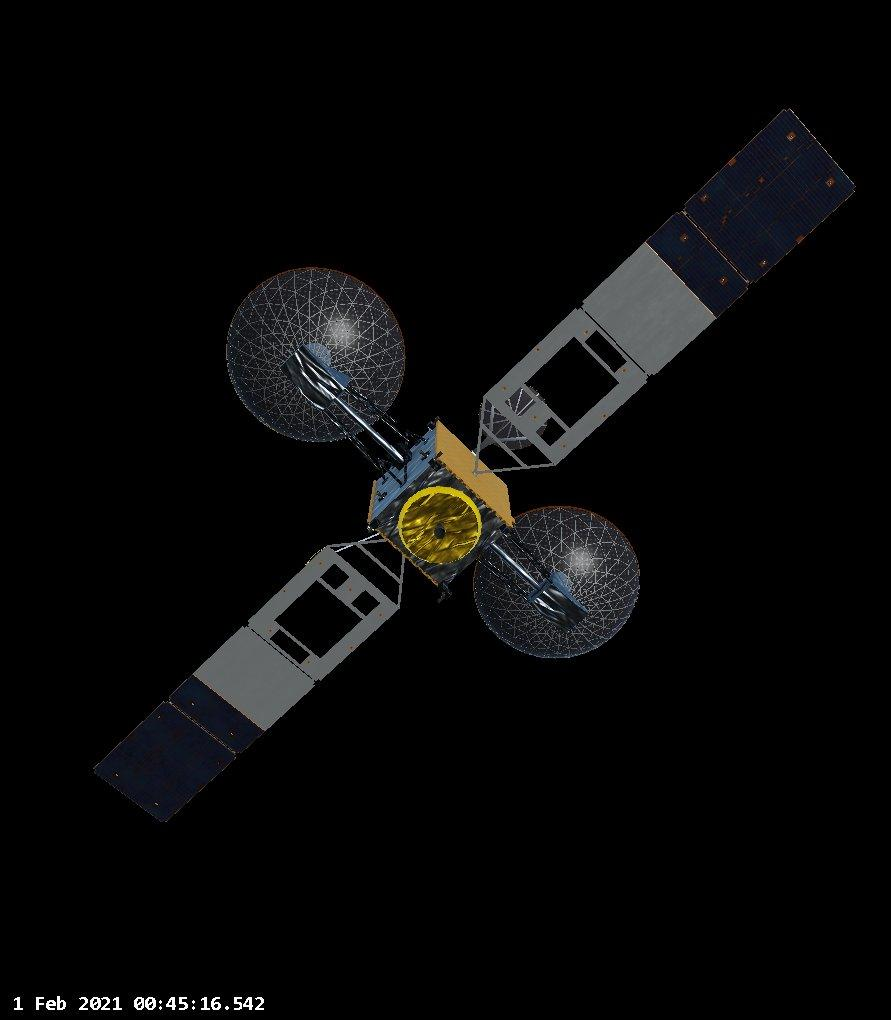antenna: (222, 261, 407, 446), (472, 500, 645, 664), (481, 384, 550, 448)
body: (365, 418, 514, 587)
solar: (482, 104, 860, 467), (85, 542, 401, 827)
thruster: (433, 520, 447, 543), (436, 591, 446, 605), (375, 491, 386, 499), (435, 450, 443, 459), (419, 450, 427, 458), (433, 464, 438, 470), (366, 525, 370, 530)
